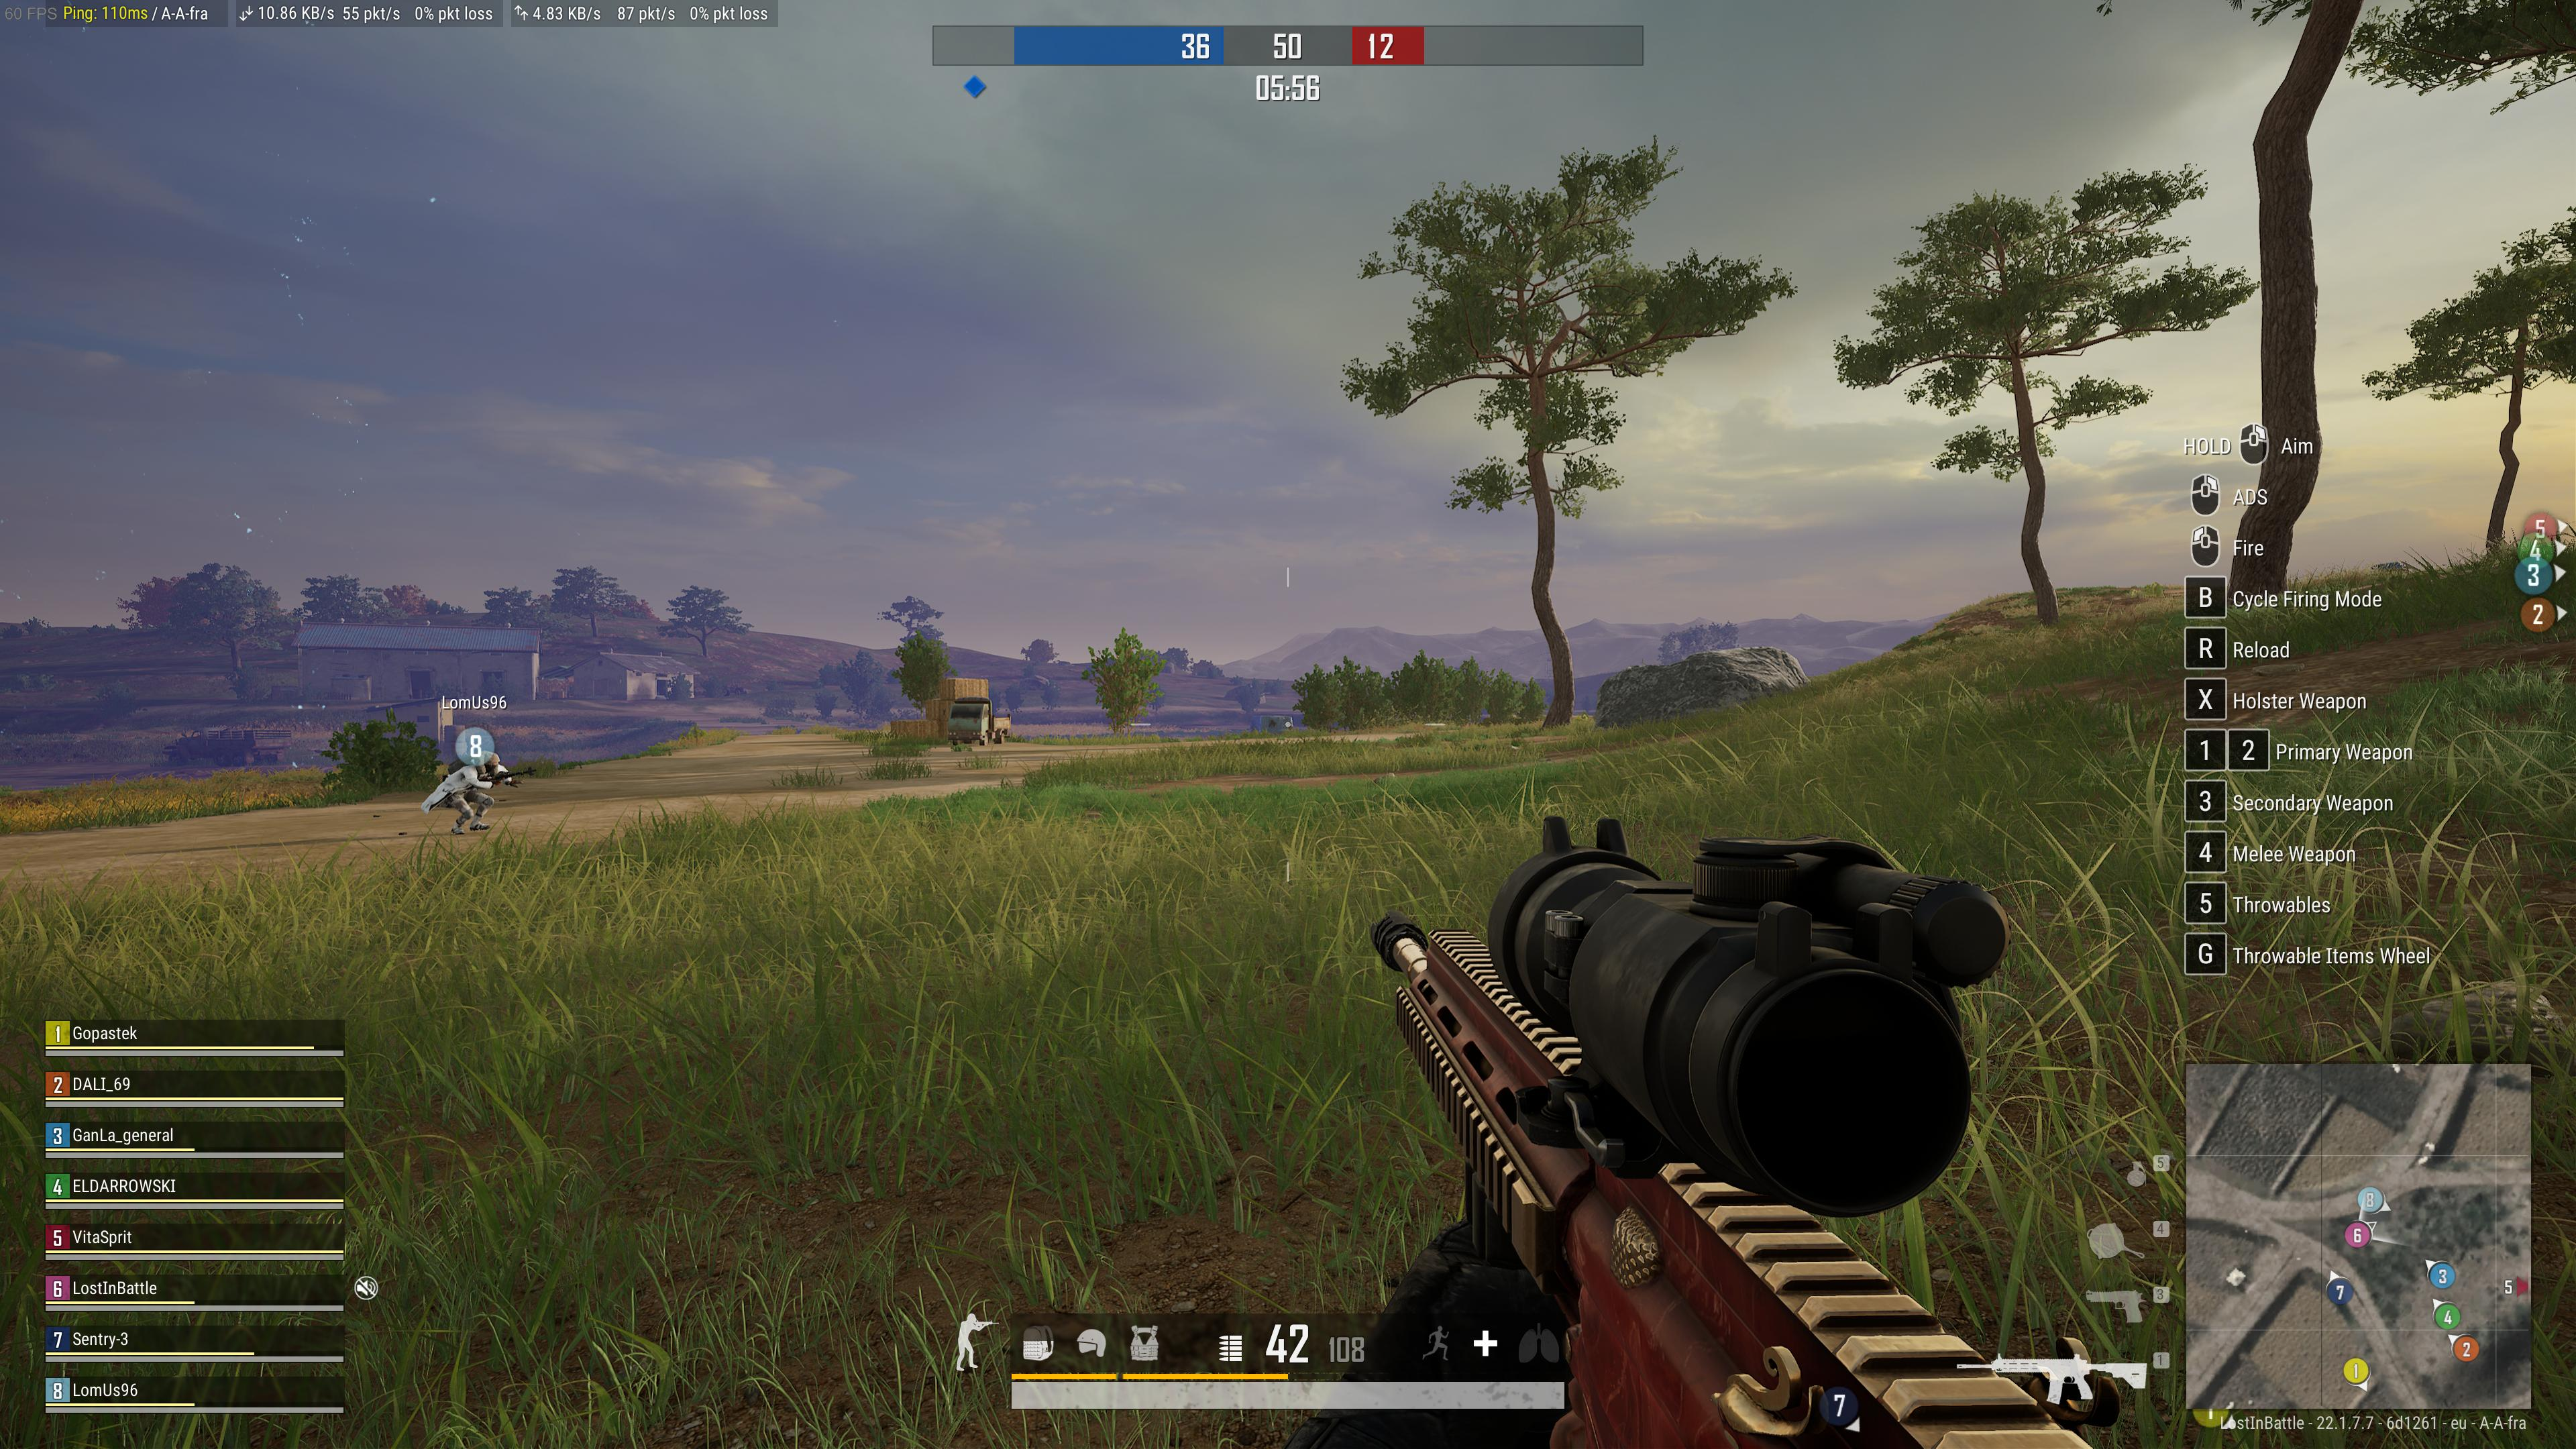friendly: (421, 740, 524, 835)
